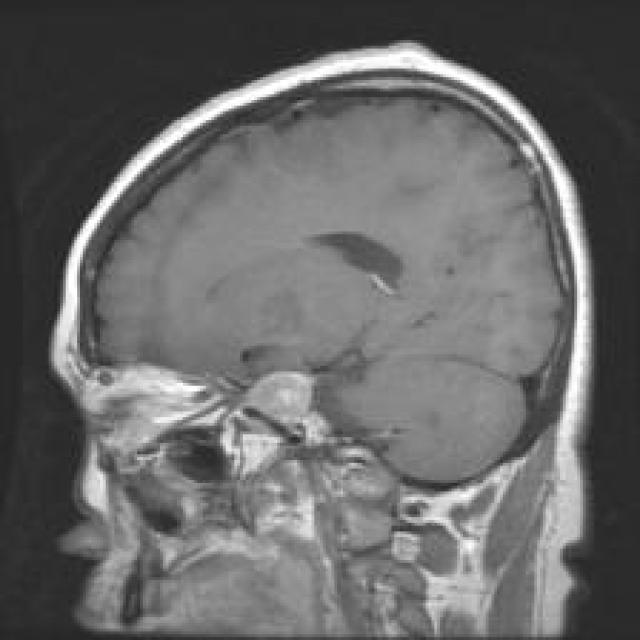pituitary_tumor: (220, 340, 336, 435)
